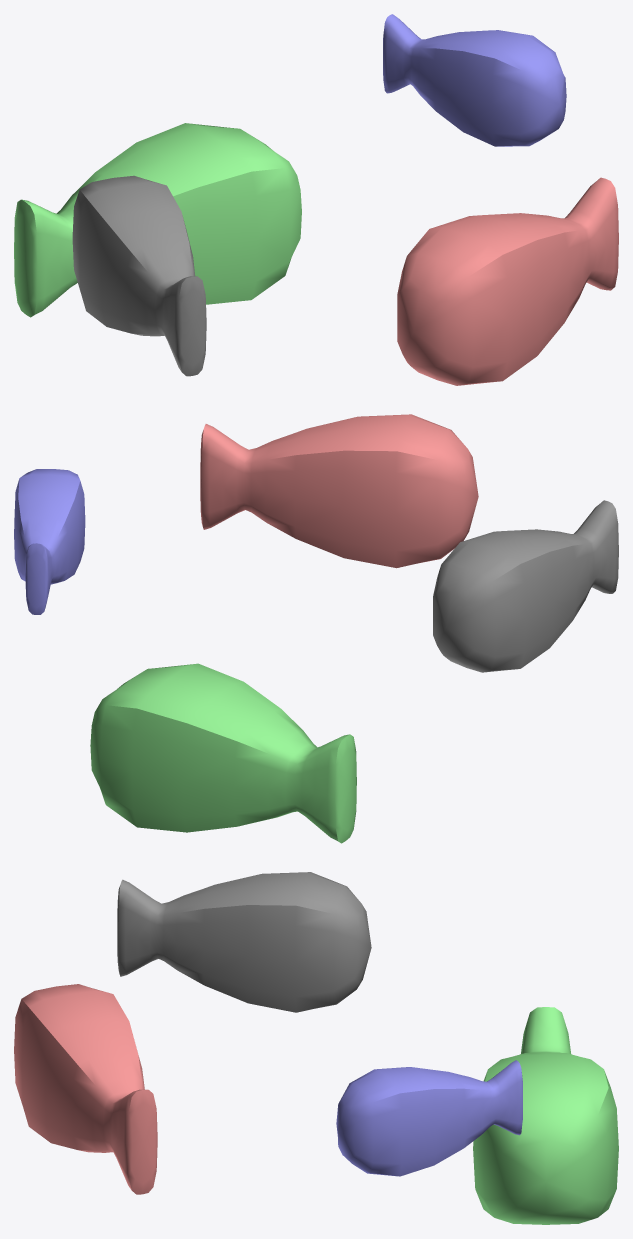
File: Fish.fbx
3 views of the same model, one above another, from view 1: azimuth 30°, elevation 25°; view 2: azimuth 150°, elevation 25°; view 3: azimuth 270°, elevation 25° (orthographic). The views are drawn at different scales.
Parts seen in each view (by area): view 1: SM_Fishes; view 2: SM_Fishes; view 3: SM_Fishes.
Boxes of the visible parts, left/top/right/bottom form: SM_Fishes: left=14, top=14, right=618, bottom=385; SM_Fishes: left=14, top=414, right=618, bottom=843; SM_Fishes: left=14, top=872, right=618, bottom=1224.
Bounding box in the file's own units: 195 × 90.42 × 209.
